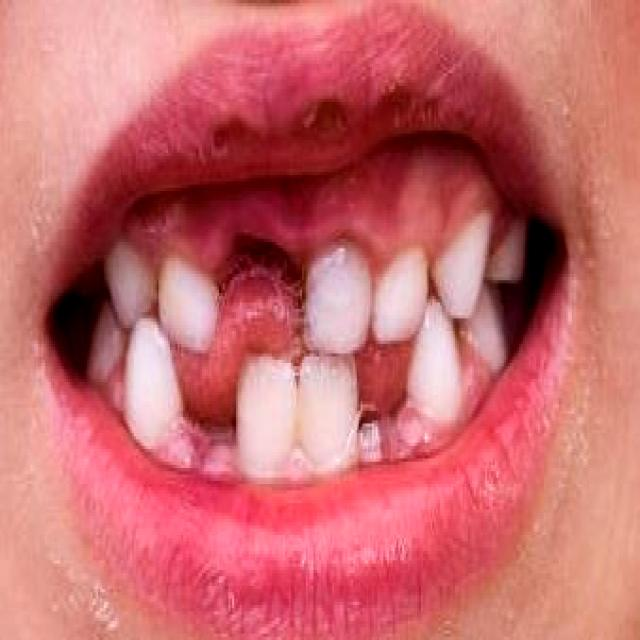hypodontia: (157, 172, 372, 350), (134, 328, 276, 478), (350, 333, 427, 459)
